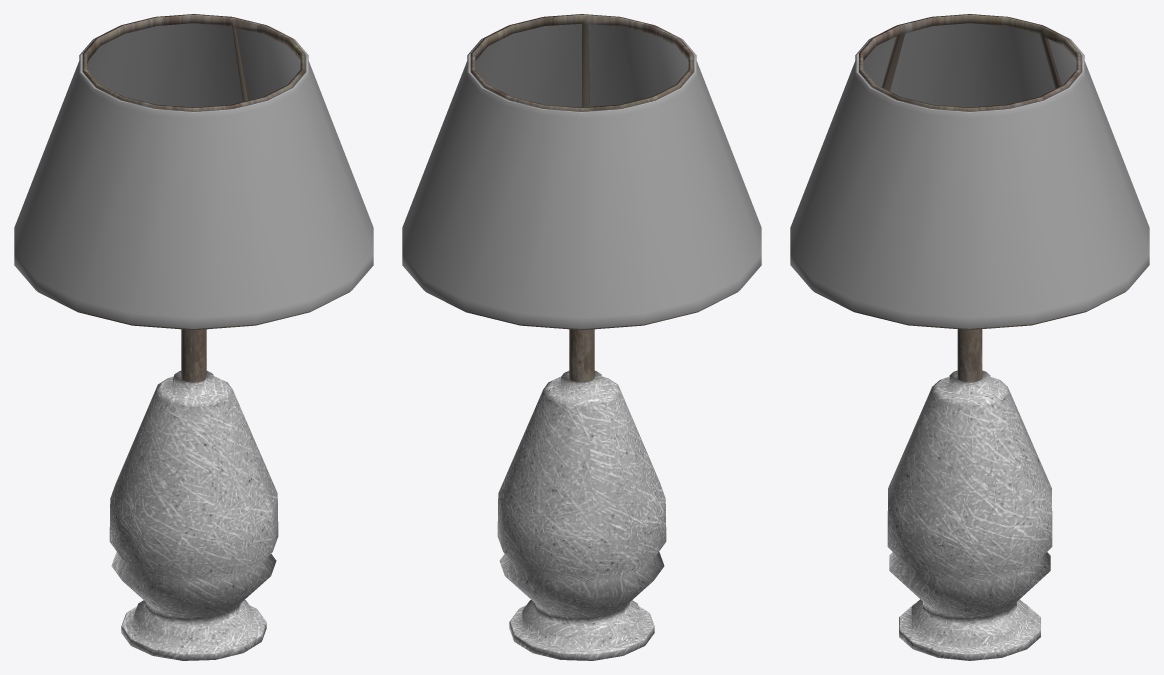
Rendered from LampB.fbx.
The picture shows the model from 3 angles, left to right: view 1: azimuth 30°, elevation 25°; view 2: azimuth 150°, elevation 25°; view 3: azimuth 270°, elevation 25°; orthographic projection.
Parts seen in each view (by area): view 1: LampB; view 2: LampB; view 3: LampB.
Boxes of the visible parts, left/top/right/bottom form: LampB: left=14, top=14, right=373, bottom=660; LampB: left=402, top=14, right=761, bottom=660; LampB: left=790, top=14, right=1149, bottom=660.
Bounding box in the file's own units: 49.06 × 84.4 × 48.31.
